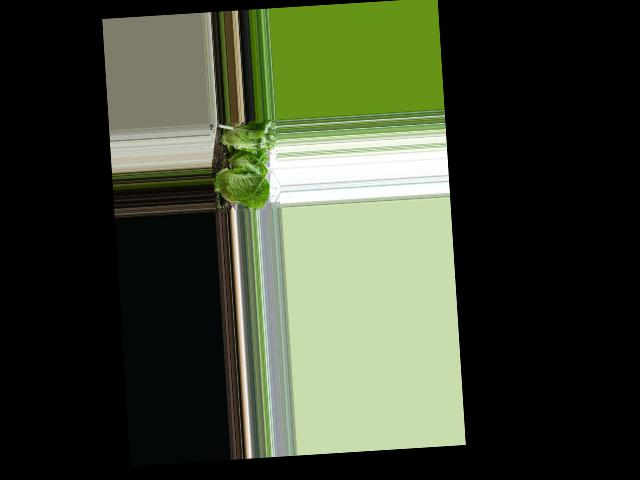lettuce: (214, 123, 272, 156)
